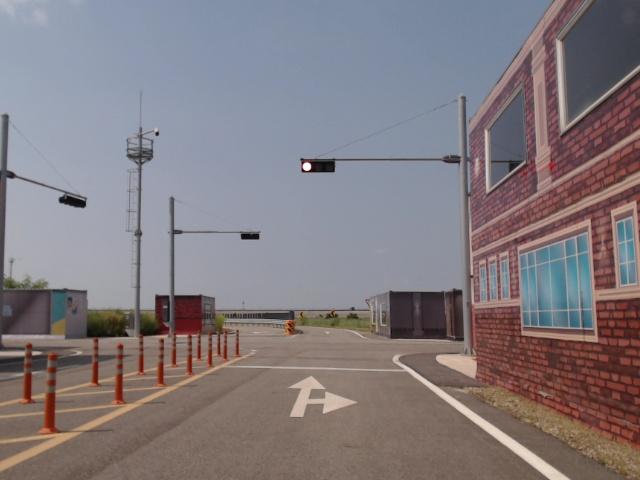red_3: (302, 159, 335, 173)
